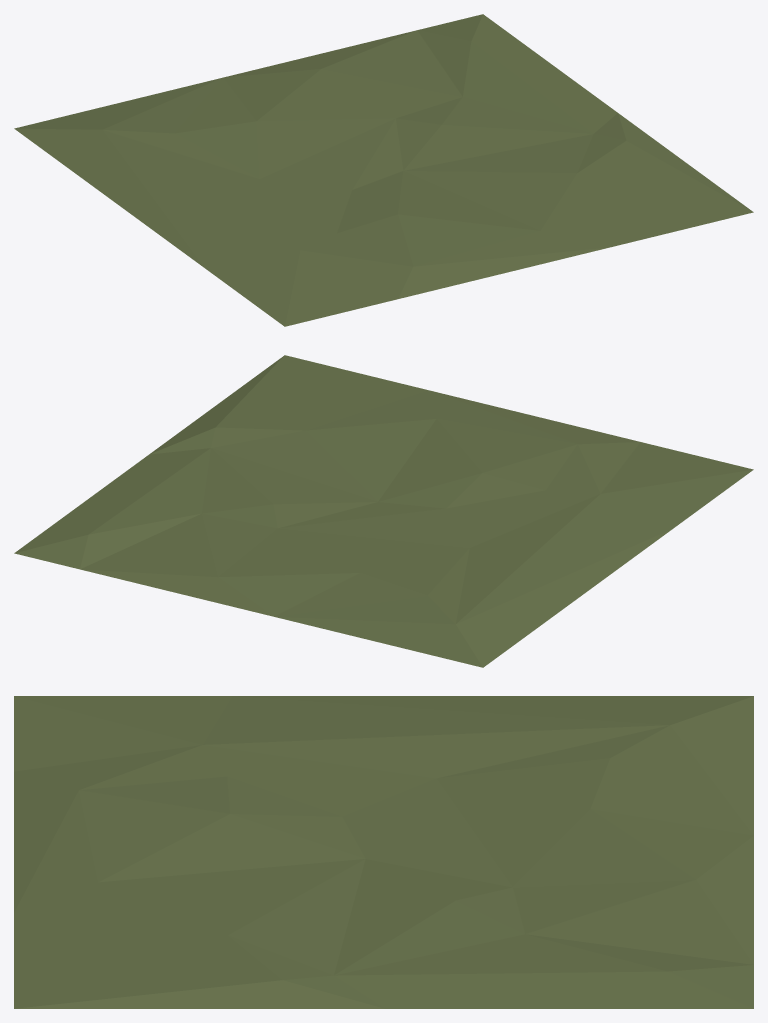
File: SM_Envr_Nature_Terrain_Ground_03.fbx
The picture shows the model from 3 angles, top to bottom: view 1: azimuth 30°, elevation 25°; view 2: azimuth 150°, elevation 25°; view 3: azimuth 270°, elevation 25°; orthographic projection. The views are drawn at different scales.
Parts seen in each view (by area): view 1: SM_Envr_Nature_Terrain_Ground_03; view 2: SM_Envr_Nature_Terrain_Ground_03; view 3: SM_Envr_Nature_Terrain_Ground_03.
Boxes of the visible parts, box(x1,y1,x2,y2) form: SM_Envr_Nature_Terrain_Ground_03: box(14, 14, 753, 326); SM_Envr_Nature_Terrain_Ground_03: box(14, 355, 753, 667); SM_Envr_Nature_Terrain_Ground_03: box(14, 696, 753, 1008).
Bounding box in the file's own units: 500 × 7.75 × 500.
